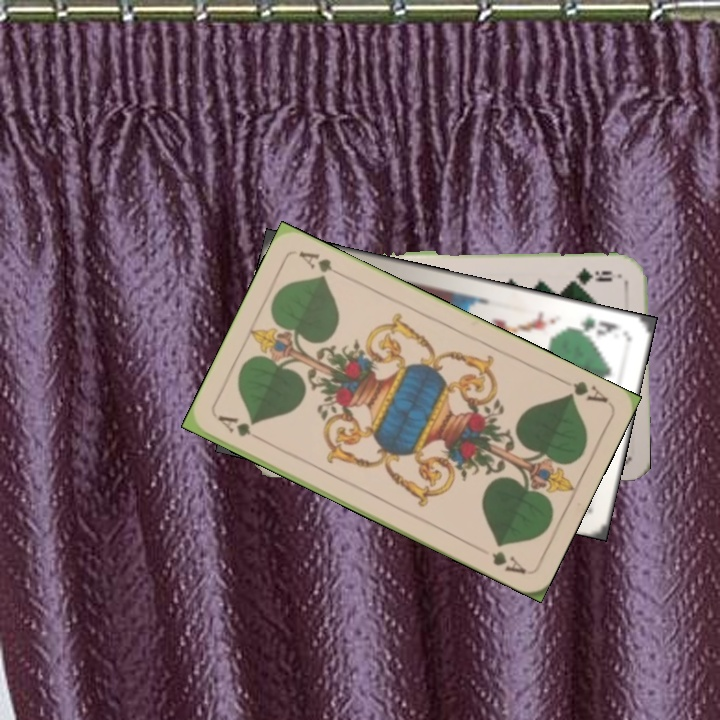G9: (566, 264, 624, 286)
GA: (555, 373, 611, 406), (214, 411, 268, 445)
GK: (566, 312, 622, 340)
